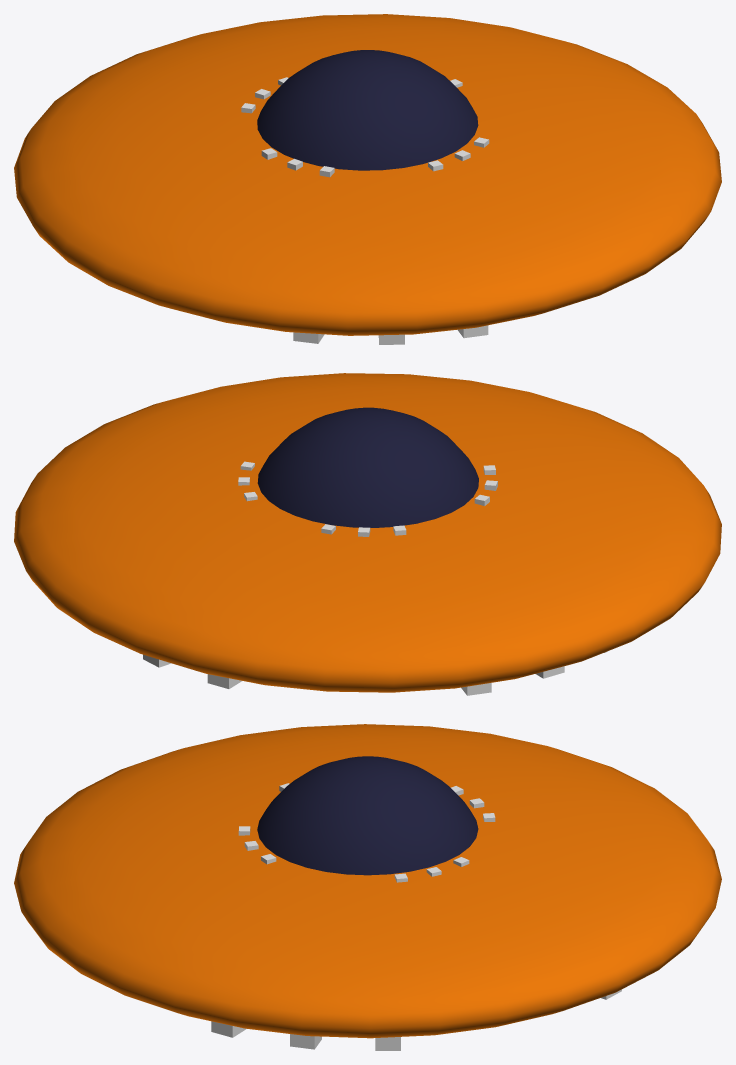
Rendered from ufo.dae.
The picture shows the model from 3 angles, top to bottom: view 1: azimuth 30°, elevation 25°; view 2: azimuth 150°, elevation 25°; view 3: azimuth 270°, elevation 25°; orthographic projection.
Visible parts, largest first — view 1: Chassis, Dome, Top Lights, Bottom Lights; view 2: Chassis, Dome, Top Lights, Bottom Lights; view 3: Chassis, Dome, Bottom Lights, Top Lights.
Boxes of the visible parts, box(x1,y1,x2,y2) form: Chassis: box(14, 14, 721, 335); Dome: box(257, 50, 478, 170); Top Lights: box(241, 77, 489, 177); Bottom Lights: box(293, 325, 488, 344); Chassis: box(14, 373, 721, 692); Dome: box(257, 407, 478, 527); Top Lights: box(238, 461, 497, 536); Bottom Lights: box(143, 651, 607, 695); Chassis: box(14, 724, 721, 1038); Dome: box(257, 756, 478, 875); Bottom Lights: box(211, 989, 621, 1050); Top Lights: box(238, 783, 495, 882).
Size of the model in its own units: 5.66 by 5.66 by 1.48.
